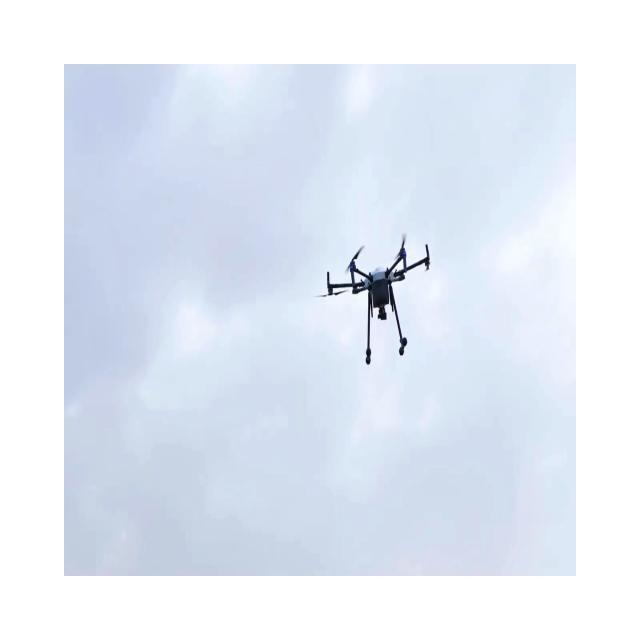drone: (314, 232, 430, 364)
